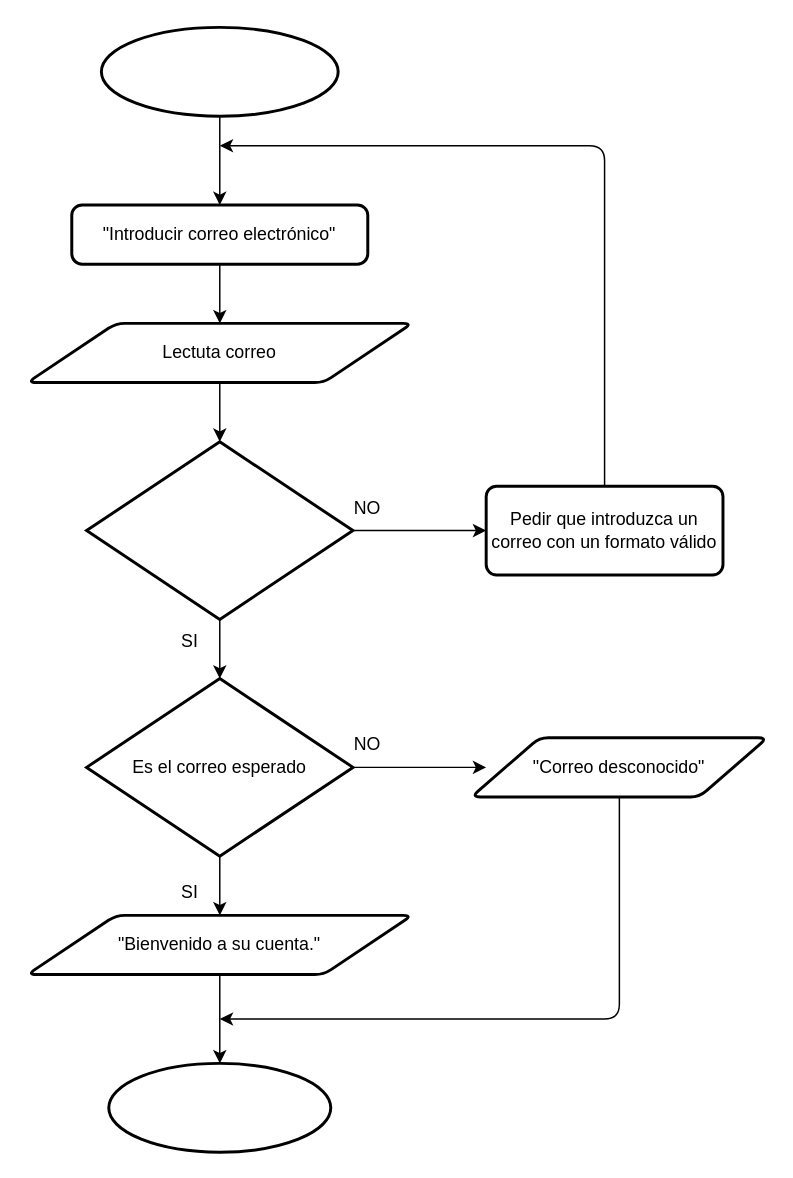
The diagram is 793 pixels wide and 1178 high, and some of its shapes have lost their labels. Here are the shapes that lost their labels. From the top down, the centre of each, then its label:
(219,71): INICIO
(219,530): Formato del correo correcto
(219,1107): FIN
